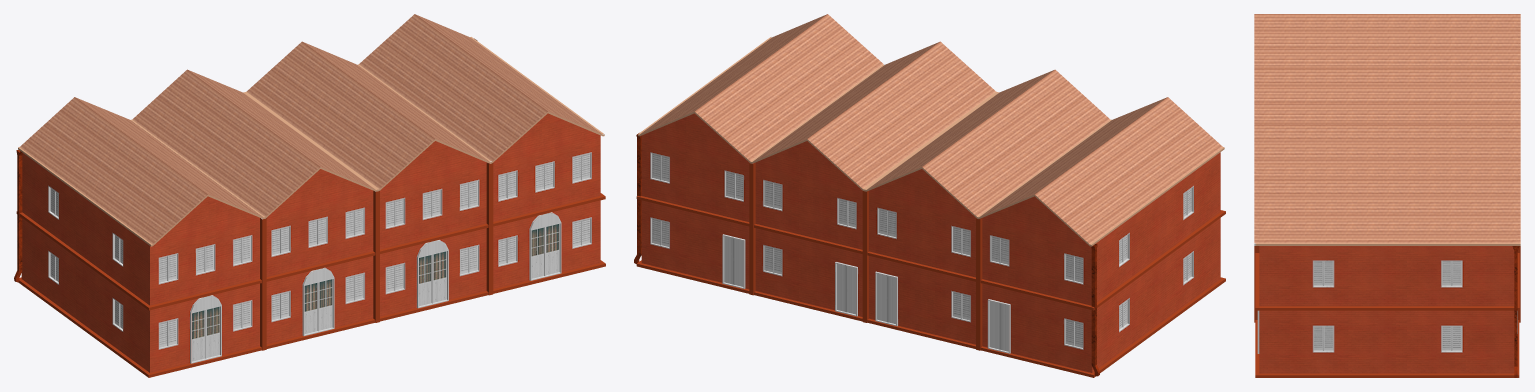
The model's file is House_2.fbx.
3 renders of one model, left to right at view 1: azimuth 30°, elevation 25°; view 2: azimuth 150°, elevation 25°; view 3: azimuth 270°, elevation 25°, orthographic.
Parts seen in each view (by area): view 1: Cube; view 2: Cube; view 3: Cube.
Boxes of the visible parts, x1,y1,x2,y2 form: Cube: [14, 14, 605, 377]; Cube: [634, 14, 1225, 377]; Cube: [1254, 14, 1520, 377].
Size of the model in its own units: 29.22 by 10.21 by 14.54.
